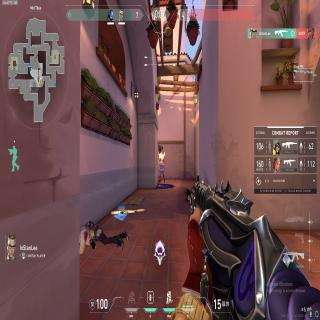ENEMY-BODY: (160, 150, 166, 187)
ENEMY-HEAD: (155, 239, 166, 264)
